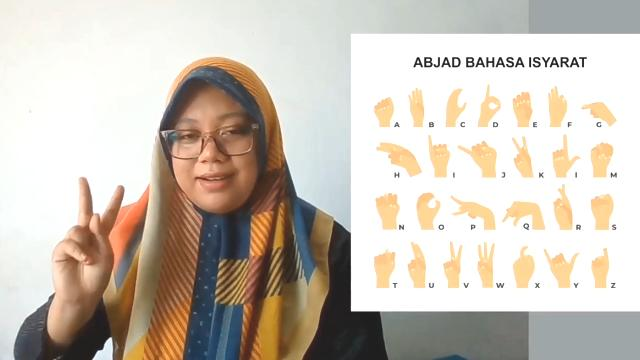K: (53, 175, 127, 309)
